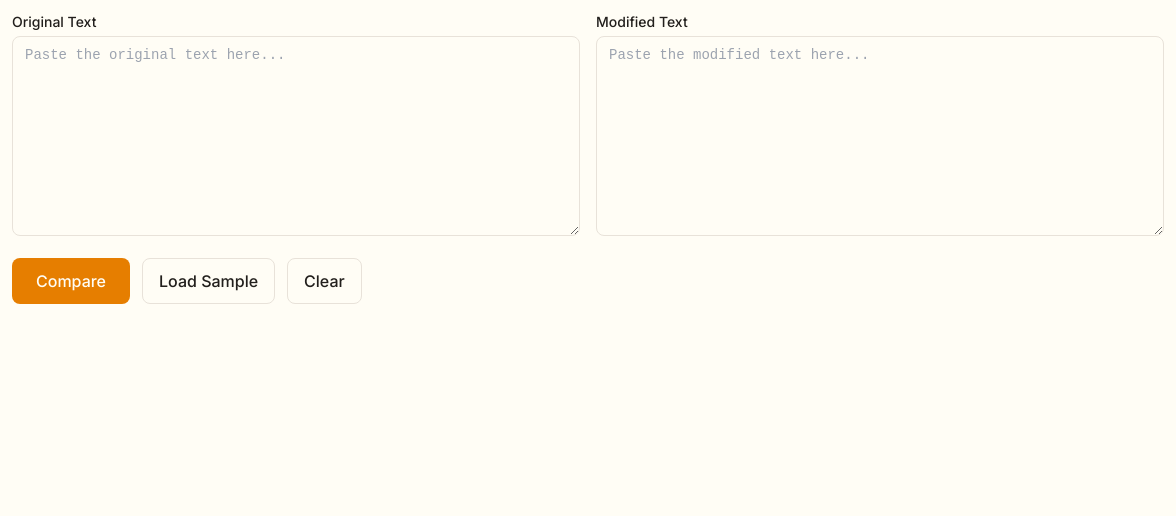
TextDiff › clears everything when Clear is clicked
Step 1. Type "foo" into the text box with placeholder "Paste the original text here..." → (296, 136), box left=12, top=36, right=580, bottom=236
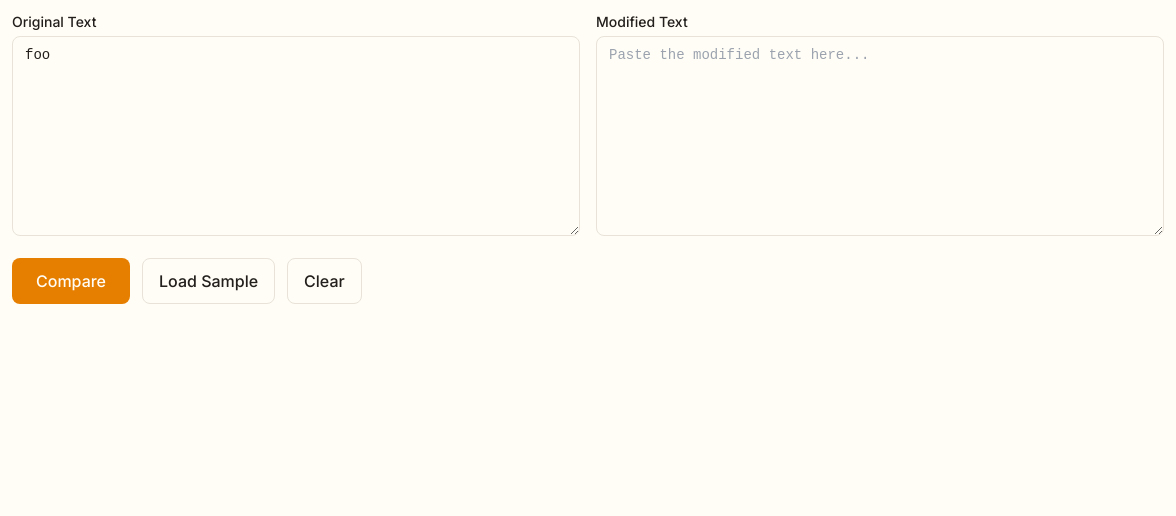
Step 2. Type "bar" into the text box with placeholder "Paste the modified text here..." → (880, 136), box left=596, top=36, right=1164, bottom=236
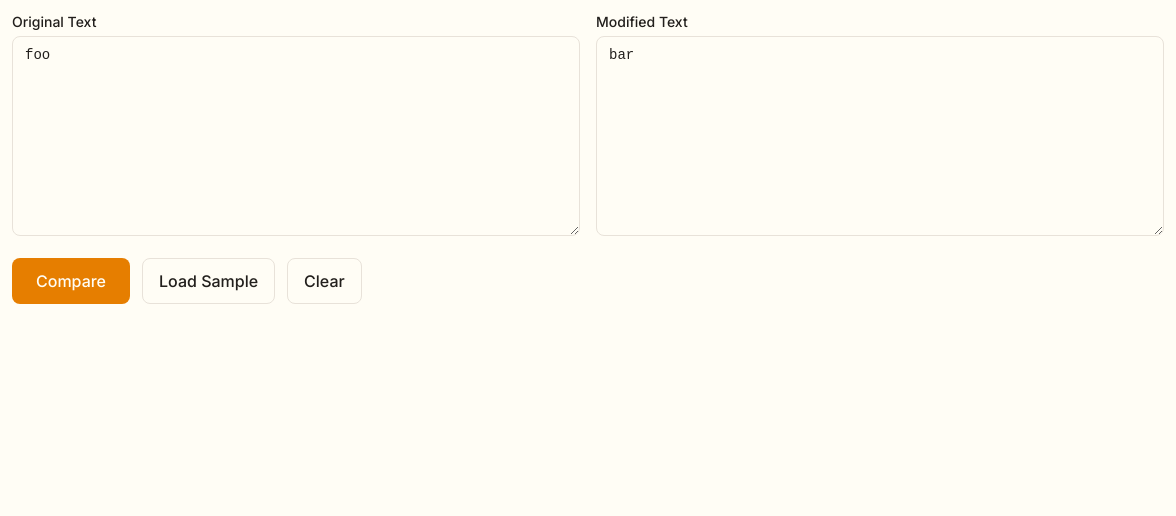
Step 3. Click the button with aria-label "Compare texts" → (71, 281), box left=12, top=258, right=130, bottom=304
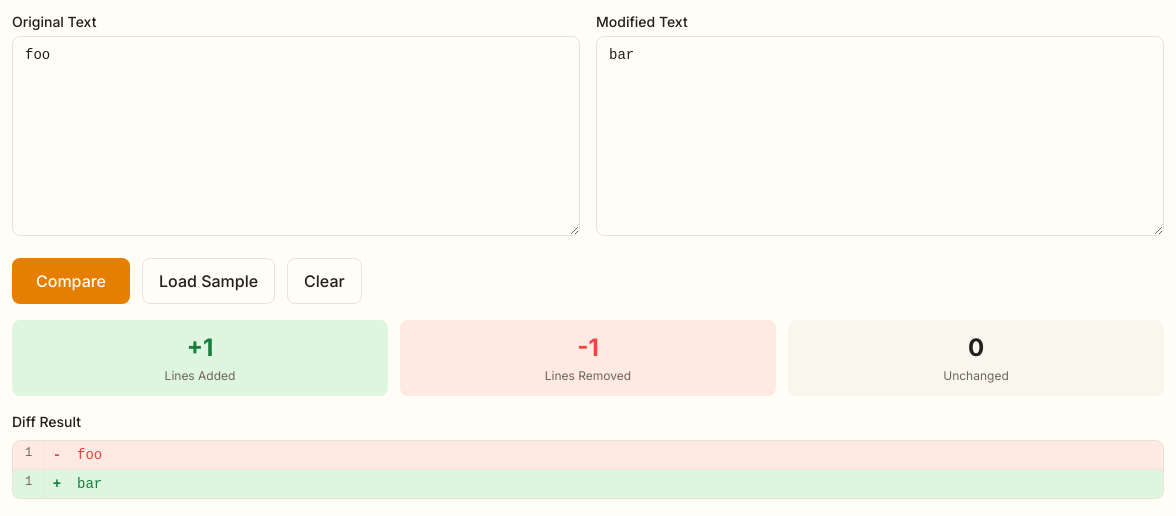
Step 4. Click the button with aria-label "Clear all fields" → (324, 281), box left=287, top=258, right=362, bottom=304
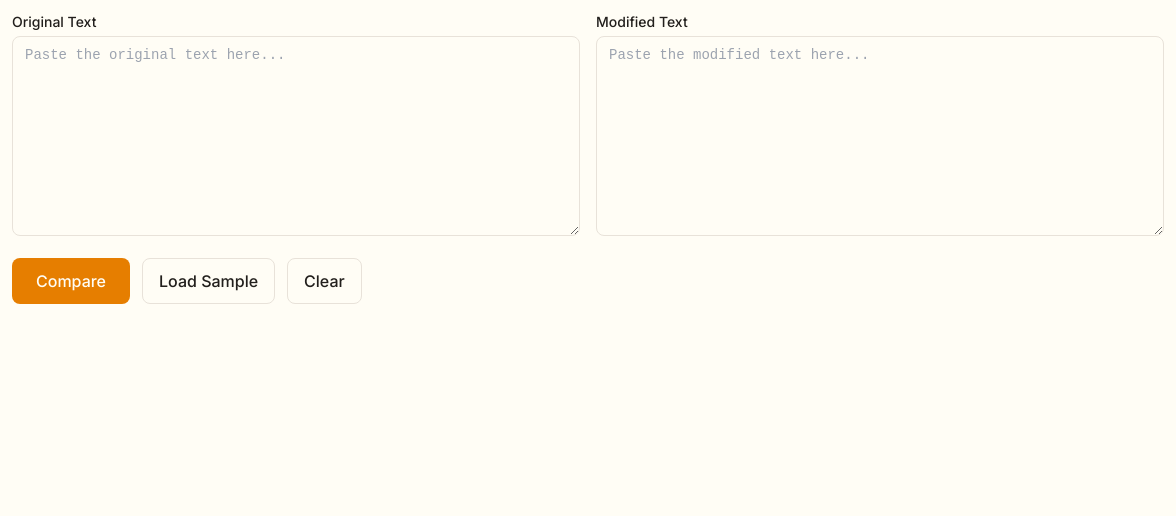
Check: the text box with placeholder "Paste the original text here..." is empty, box left=12, top=36, right=580, bottom=236
Check: the text box with placeholder "Paste the modified text here..." is empty, box left=596, top=36, right=1164, bottom=236
Check: the text "Lines Added" is gone
